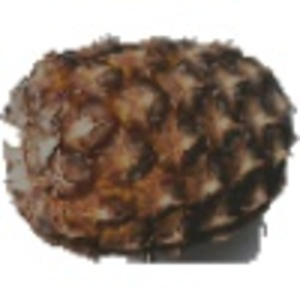abacaxi: (4, 27, 293, 257)
